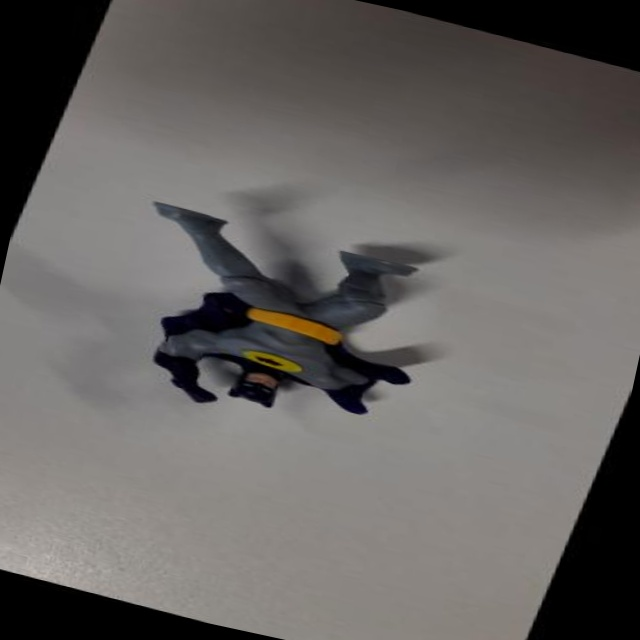Batman: (66, 168, 483, 470)
